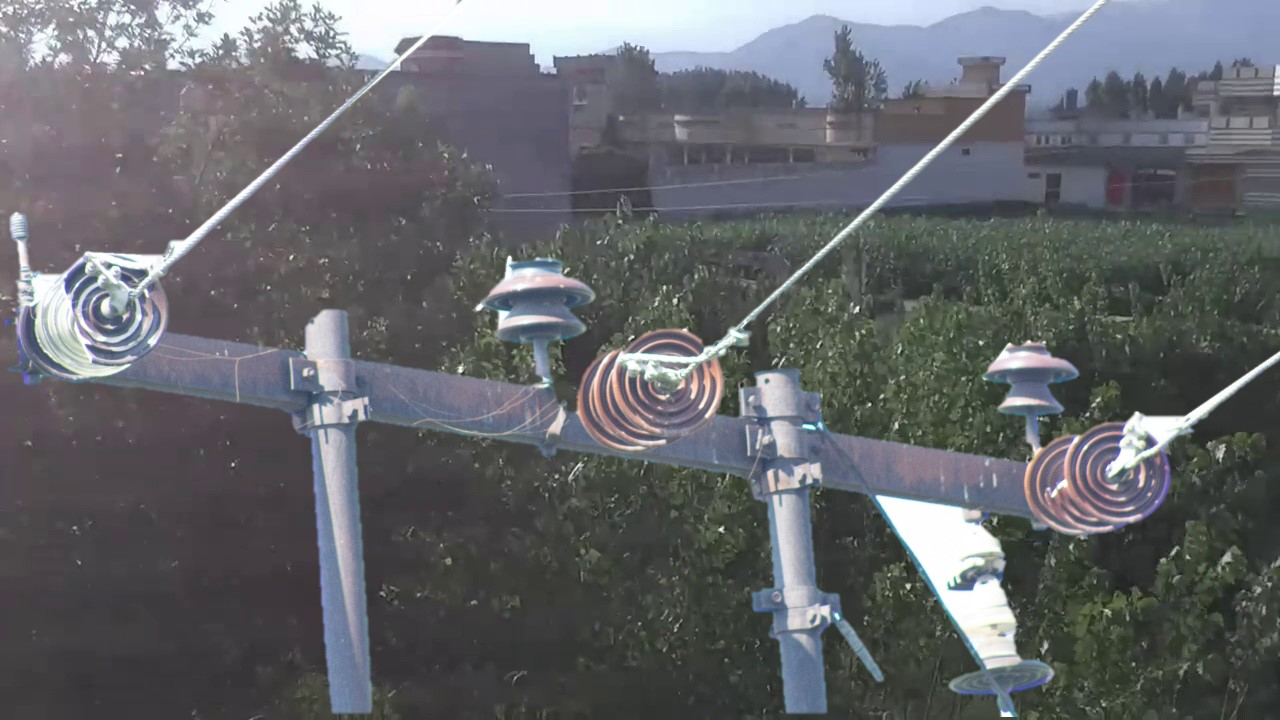defect_disc: (61, 240, 175, 369)
insulator_disc: (606, 319, 730, 441), (1063, 415, 1179, 531)
